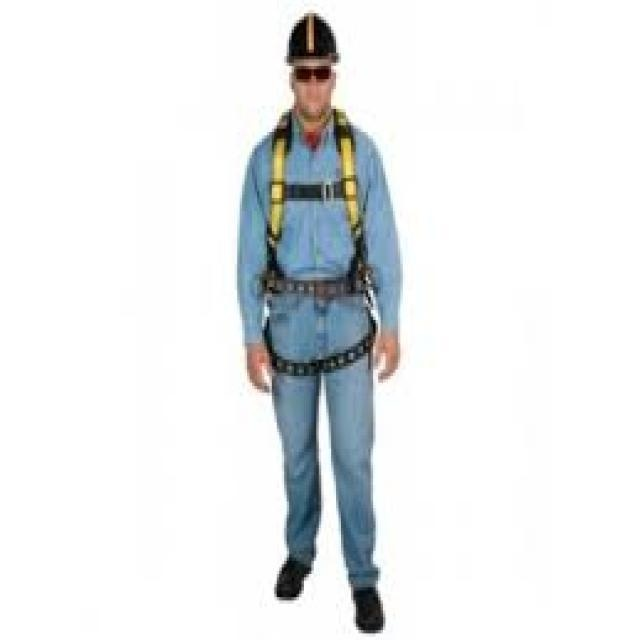Arnes_seguridad: (260, 104, 380, 375)
